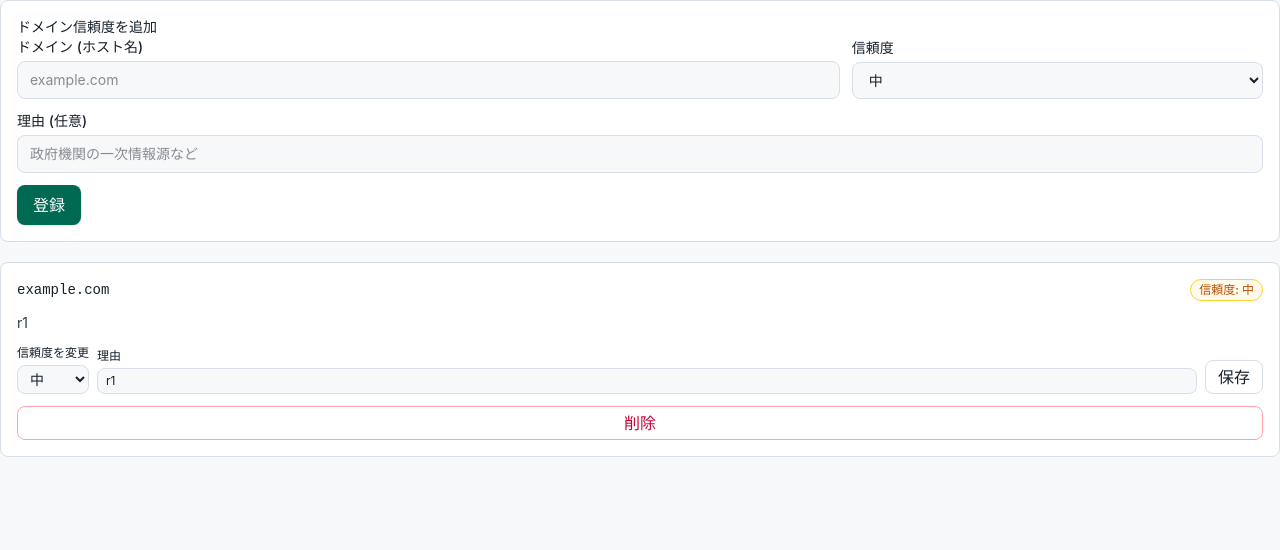
DomainTrustRow controlled edit (Codex auto-review P2) › 保存成功後 reload 拒否でも controlled 値が saved を保持し、form を lock して stale 再 save を防ぐ
medium → low へ変更 → dirty
Select "低" in the dropdown labelled "信頼度を変更" at (53, 380), box [17,365,89,394]
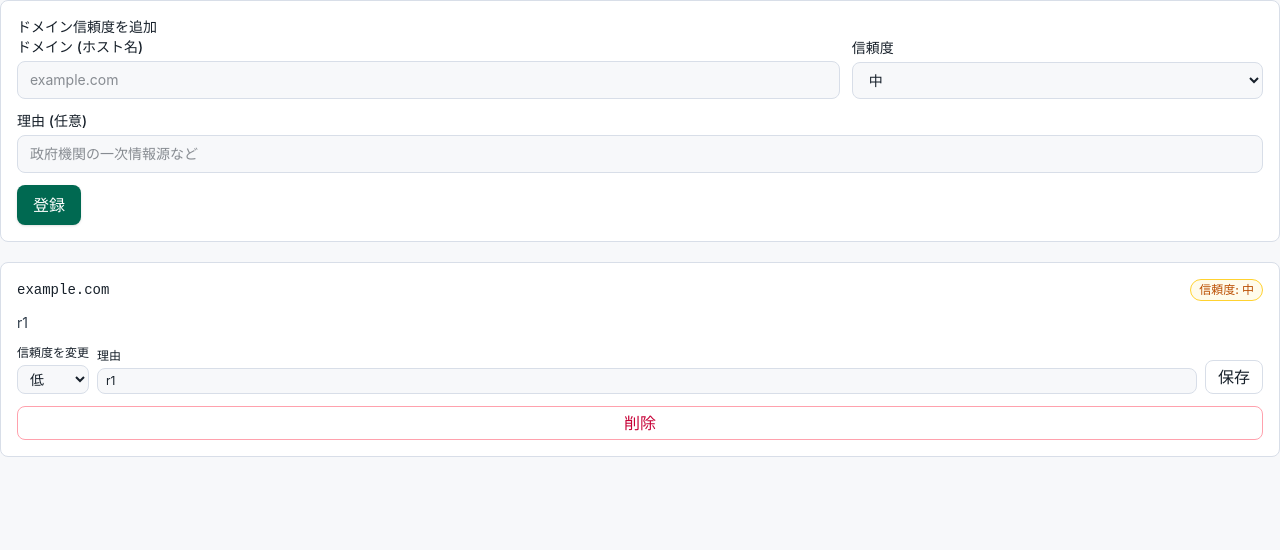
Now the form with test id "domain-trust-edit-form" has attribute data-dirty="true", box [17,345,1263,394]
1 回目の送信値は low (controlled)。
Click the button "保存".
click(1234, 377)  # box [1205,360,1263,394]
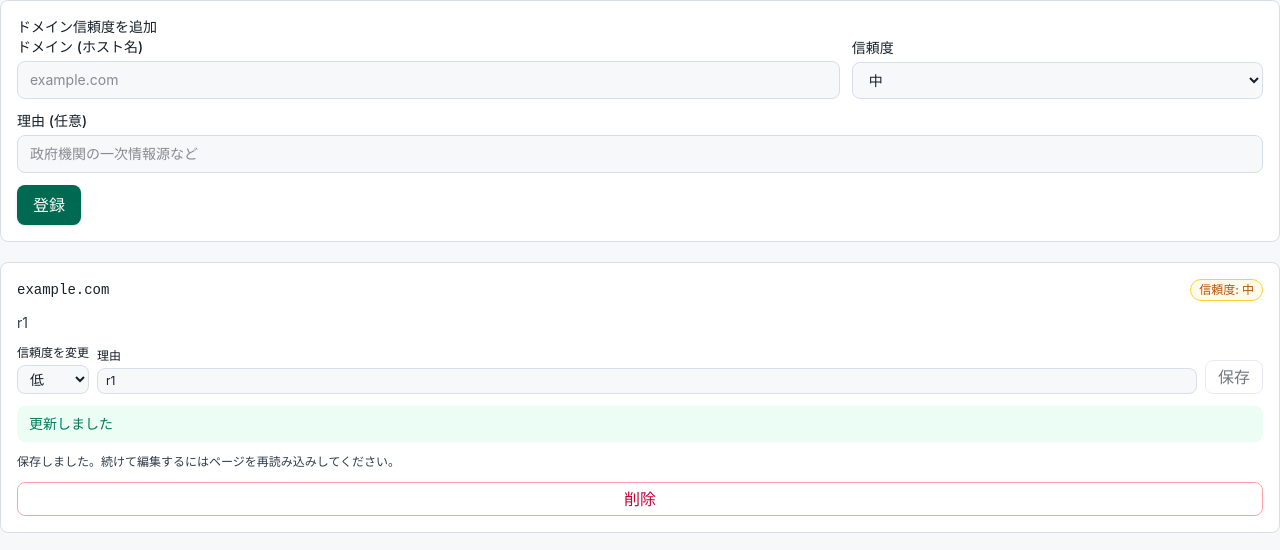
Expected: the dropdown labelled "信頼度を変更" is disabled, [17,365,89,394]
Now the button "保存" is disabled, box [1205,360,1263,394]
Now the text "保存しました。続けて編集するにはページを再読み込みしてください。" is shown, box [17,454,400,469]
